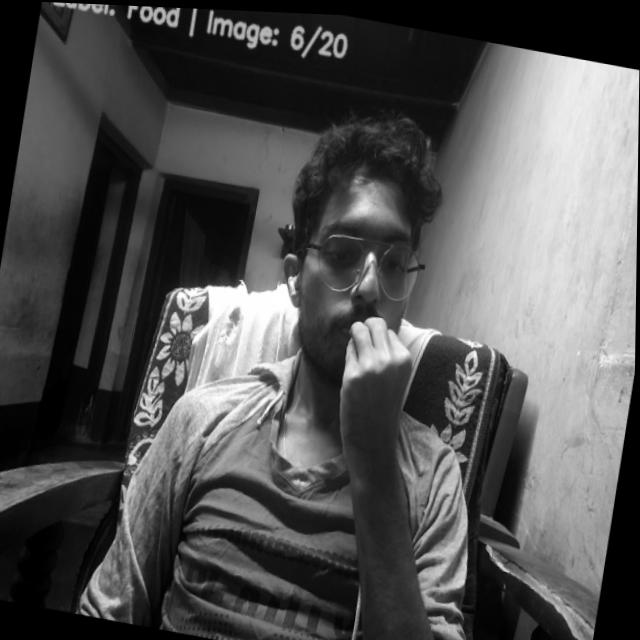Food: (322, 300, 429, 482)
